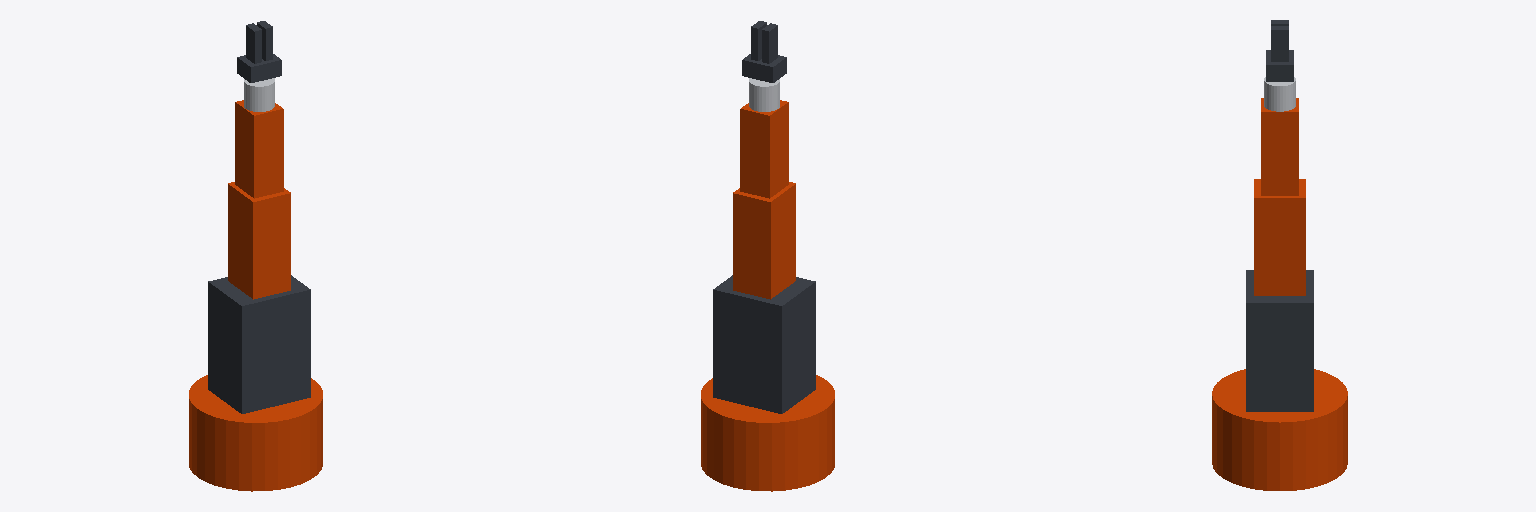
URDF robot description (brazo_robot_industrial):
<?xml version="1.0"?>
<!--
  brazo_robot_industrial.urdf — descripcion cinematica en formato URDF.

  NOTA DE CONVENCION: URDF/ROS usa Z arriba; el modelo GLB usa Y arriba.
  Este archivo expresa la MISMA cadena cinematica en convencion ROS:
    eje de giro de la torreta  -> Z
    ejes de cabeceo            -> Y
  Los limites y las longitudes de eslabon son identicos al rig del GLB.
  Limites en radianes (URDF) equivalentes a los grados de rig.json.

  Uso: validacion cinematica, planificacion de trayectorias (MoveIt),
  simulacion (Gazebo, PyBullet, Isaac Sim). Para render usar el GLB.
-->
<robot name="brazo_robot_industrial">

  <material name="steel_housing">  <color rgba="0.27 0.29 0.32 1"/></material>
  <material name="safety_orange">  <color rgba="0.85 0.32 0.05 1"/></material>
  <material name="chrome_joint">   <color rgba="0.81 0.82 0.84 1"/></material>
  <material name="cable_rubber">   <color rgba="0.11 0.11 0.12 1"/></material>

  <!-- ============ eslabones ============ -->

  <link name="base_link">
    <visual>
      <origin xyz="0 0 0.19"/>
      <geometry><cylinder radius="0.34" length="0.38"/></geometry>
      <material name="safety_orange"/>
    </visual>
    <collision>
      <origin xyz="0 0 0.19"/>
      <geometry><cylinder radius="0.36" length="0.38"/></geometry>
    </collision>
    <inertial><mass value="42.0"/><origin xyz="0 0 0.19"/>
      <inertia ixx="1.6" ixy="0" ixz="0" iyy="1.6" iyz="0" izz="2.4"/></inertial>
  </link>

  <link name="turret_link">
    <visual>
      <origin xyz="0.02 0 0.30"/>
      <geometry><box size="0.40 0.34 0.60"/></geometry>
      <material name="steel_housing"/>
    </visual>
    <collision><origin xyz="0.02 0 0.30"/><geometry><box size="0.40 0.34 0.60"/></geometry></collision>
    <inertial><mass value="18.0"/><origin xyz="0.02 0 0.30"/>
      <inertia ixx="0.7" ixy="0" ixz="0" iyy="0.7" iyz="0" izz="0.5"/></inertial>
  </link>

  <link name="upper_arm_link">
    <visual>
      <origin xyz="0 0 0.31"/>
      <geometry><box size="0.22 0.26 0.62"/></geometry>
      <material name="safety_orange"/>
    </visual>
    <collision><origin xyz="0 0 0.31"/><geometry><box size="0.22 0.26 0.62"/></geometry></collision>
    <inertial><mass value="12.0"/><origin xyz="0 0 0.31"/>
      <inertia ixx="0.42" ixy="0" ixz="0" iyy="0.42" iyz="0" izz="0.09"/></inertial>
  </link>

  <link name="forearm_link">
    <visual>
      <origin xyz="0 0 0.23"/>
      <geometry><box size="0.17 0.19 0.46"/></geometry>
      <material name="safety_orange"/>
    </visual>
    <collision><origin xyz="0 0 0.23"/><geometry><box size="0.17 0.19 0.46"/></geometry></collision>
    <inertial><mass value="7.0"/><origin xyz="0 0 0.23"/>
      <inertia ixx="0.14" ixy="0" ixz="0" iyy="0.14" iyz="0" izz="0.04"/></inertial>
  </link>

  <link name="wrist_link">
    <visual>
      <origin xyz="0 0 0.07"/>
      <geometry><cylinder radius="0.08" length="0.14"/></geometry>
      <material name="chrome_joint"/>
    </visual>
    <collision><origin xyz="0 0 0.07"/><geometry><cylinder radius="0.09" length="0.14"/></geometry></collision>
    <inertial><mass value="2.4"/><origin xyz="0 0 0.07"/>
      <inertia ixx="0.006" ixy="0" ixz="0" iyy="0.006" iyz="0" izz="0.006"/></inertial>
  </link>

  <link name="tool_link">
    <visual>
      <origin xyz="0 0 0.075"/>
      <geometry><box size="0.18 0.14 0.09"/></geometry>
      <material name="steel_housing"/>
    </visual>
    <collision><origin xyz="0 0 0.075"/><geometry><box size="0.18 0.14 0.09"/></geometry></collision>
    <inertial><mass value="1.8"/><origin xyz="0 0 0.075"/>
      <inertia ixx="0.004" ixy="0" ixz="0" iyy="0.004" iyz="0" izz="0.004"/></inertial>
  </link>

  <link name="finger_left_link">
    <visual><origin xyz="0 0 0.09"/><geometry><box size="0.045 0.09 0.18"/></geometry>
      <material name="steel_housing"/></visual>
    <collision><origin xyz="0 0 0.09"/><geometry><box size="0.045 0.09 0.18"/></geometry></collision>
    <inertial><mass value="0.35"/><origin xyz="0 0 0.09"/>
      <inertia ixx="0.001" ixy="0" ixz="0" iyy="0.001" iyz="0" izz="0.0004"/></inertial>
  </link>

  <link name="finger_right_link">
    <visual><origin xyz="0 0 0.09"/><geometry><box size="0.045 0.09 0.18"/></geometry>
      <material name="steel_housing"/></visual>
    <collision><origin xyz="0 0 0.09"/><geometry><box size="0.045 0.09 0.18"/></geometry></collision>
    <inertial><mass value="0.35"/><origin xyz="0 0 0.09"/>
      <inertia ixx="0.001" ixy="0" ixz="0" iyy="0.001" iyz="0" izz="0.0004"/></inertial>
  </link>

  <!-- ============ articulaciones ============ -->

  <!-- J1 · giro de torreta · GLB: J1_base_yaw (eje Y) -->
  <joint name="J1_base_yaw" type="revolute">
    <parent link="base_link"/>
    <child  link="turret_link"/>
    <origin xyz="0 0 0.38" rpy="0 0 0"/>
    <axis xyz="0 0 1"/>
    <limit lower="-2.9671" upper="2.9671" effort="600" velocity="3.1416"/>
    <dynamics damping="1.2" friction="0.4"/>
  </joint>

  <!-- J2 · hombro · GLB: J2_shoulder_pitch (eje Z) -->
  <joint name="J2_shoulder_pitch" type="revolute">
    <parent link="turret_link"/>
    <child  link="upper_arm_link"/>
    <origin xyz="0.02 0 0.52" rpy="0 0 0"/>
    <axis xyz="0 1 0"/>
    <limit lower="-1.0472" upper="1.6581" effort="900" velocity="2.4435"/>
    <dynamics damping="1.5" friction="0.5"/>
  </joint>

  <!-- J3 · codo · GLB: J3_elbow_pitch (eje Z) -->
  <joint name="J3_elbow_pitch" type="revolute">
    <parent link="upper_arm_link"/>
    <child  link="forearm_link"/>
    <origin xyz="0 0 0.62" rpy="0 0 0"/>
    <axis xyz="0 1 0"/>
    <limit lower="-0.3491" upper="2.6180" effort="600" velocity="2.7925"/>
    <dynamics damping="1.0" friction="0.35"/>
  </joint>

  <!-- J4 · muneca · GLB: J4_wrist_pitch (eje Z) -->
  <joint name="J4_wrist_pitch" type="revolute">
    <parent link="forearm_link"/>
    <child  link="wrist_link"/>
    <origin xyz="0 0 0.46" rpy="0 0 0"/>
    <axis xyz="0 1 0"/>
    <limit lower="-1.9199" upper="1.9199" effort="250" velocity="4.3633"/>
    <dynamics damping="0.6" friction="0.2"/>
  </joint>

  <!-- J5 · giro de herramienta · GLB: J5_tool_roll (eje Y) -->
  <joint name="J5_tool_roll" type="revolute">
    <parent link="wrist_link"/>
    <child  link="tool_link"/>
    <origin xyz="0 0 0.14" rpy="0 0 0"/>
    <axis xyz="0 0 1"/>
    <limit lower="-3.1416" upper="3.1416" effort="150" velocity="5.5851"/>
    <dynamics damping="0.4" friction="0.15"/>
  </joint>

  <!-- J6 · pinza, dedo izquierdo · GLB: J6_gripper_finger_L -->
  <joint name="J6_gripper_finger_L" type="prismatic">
    <parent link="tool_link"/>
    <child  link="finger_left_link"/>
    <origin xyz="-0.032 0 0.12" rpy="0 0 0"/>
    <axis xyz="-1 0 0"/>
    <limit lower="0.0" upper="0.053" effort="120" velocity="0.12"/>
    <dynamics damping="0.2" friction="0.1"/>
  </joint>

  <!-- J6 · pinza, dedo derecho (espejo: mimic del izquierdo) -->
  <joint name="J6_gripper_finger_R" type="prismatic">
    <parent link="tool_link"/>
    <child  link="finger_right_link"/>
    <origin xyz="0.032 0 0.12" rpy="0 0 0"/>
    <axis xyz="1 0 0"/>
    <limit lower="0.0" upper="0.053" effort="120" velocity="0.12"/>
    <mimic joint="J6_gripper_finger_L" multiplier="1.0" offset="0.0"/>
    <dynamics damping="0.2" friction="0.1"/>
  </joint>

  <!-- marco del efector final: punto de agarre entre las mordazas -->
  <link name="tcp"/>
  <joint name="tool_tcp" type="fixed">
    <parent link="tool_link"/>
    <child  link="tcp"/>
    <origin xyz="0 0 0.26" rpy="0 0 0"/>
  </joint>

</robot>

--- What the picture shows (computed from the rendered views, not written in the file) ---
3 views of the same robot in one strip: view 1: azimuth 30°, elevation 25°; view 2: azimuth 150°, elevation 25°; view 3: azimuth 270°, elevation 25° (orthographic).
Robot: brazo_robot_industrial — 9 links, 8 joints (5 revolute, 2 prismatic, 1 fixed); root link base_link; default pose: all joints at 0.
Visible links, largest first — view 1: turret_link, base_link, upper_arm_link, forearm_link, wrist_link, tool_link, finger_left_link; view 2: turret_link, base_link, upper_arm_link, forearm_link, wrist_link, tool_link, finger_left_link; view 3: base_link, turret_link, upper_arm_link, forearm_link, wrist_link, tool_link, finger_right_link.
Link boxes in pixels (x1,y1,x2,y2): turret_link: (208,275,310,413); base_link: (189,375,322,491); upper_arm_link: (228,182,290,299); forearm_link: (235,100,283,198); wrist_link: (244,78,274,111); tool_link: (237,54,281,82); finger_left_link: (246,23,261,63); turret_link: (713,275,815,413); base_link: (701,375,834,491); upper_arm_link: (733,182,795,299); forearm_link: (740,100,788,198); wrist_link: (749,78,779,111); tool_link: (742,54,786,82); finger_left_link: (762,23,777,63); base_link: (1212,369,1347,490); turret_link: (1246,270,1313,411); upper_arm_link: (1254,179,1305,295); forearm_link: (1261,98,1298,195); wrist_link: (1264,77,1295,111); tool_link: (1266,50,1293,81); finger_right_link: (1271,26,1288,61).
Size in the robot's own frame: 0.68 by 0.68 by 2.42 metres.
Geometry: primitives only (box / cylinder / sphere), no mesh files.
